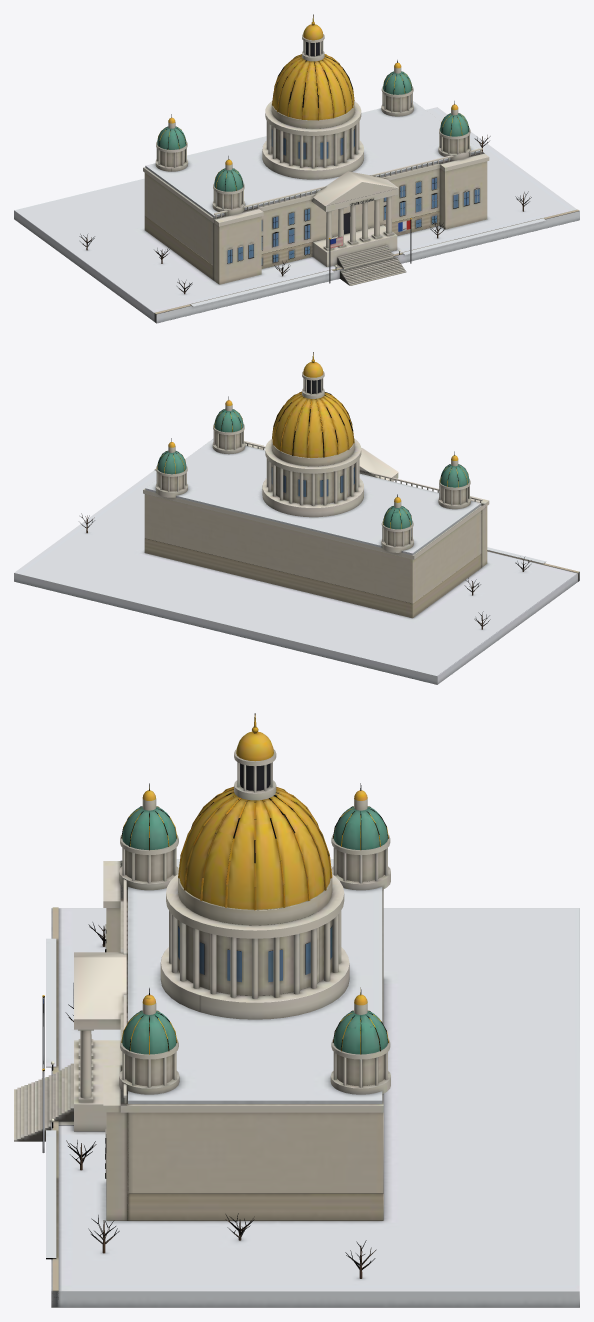
The model's file is capitolio_iowa.glb.
3 renders of one model, top to bottom at view 1: azimuth 30°, elevation 25°; view 2: azimuth 150°, elevation 25°; view 3: azimuth 270°, elevation 25°, orthographic. The views are drawn at different scales.
Parts seen in each view (by area): view 1: capitolio_iowa; view 2: capitolio_iowa; view 3: capitolio_iowa.
Part boxes in pixels (left/top/right/bottom): capitolio_iowa: left=14, top=14, right=579, bottom=323; capitolio_iowa: left=14, top=352, right=579, bottom=684; capitolio_iowa: left=14, top=713, right=579, bottom=1307.
Bounding box in the file's own units: 120 × 59.07 × 74.92.
Materials: 1 (1 with a texture image).
